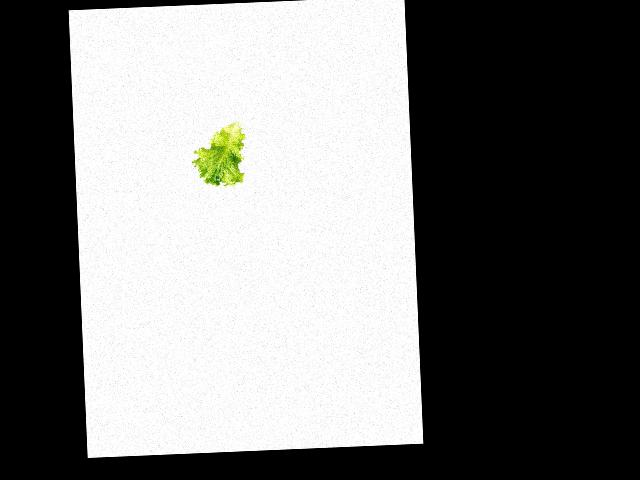lettuce: (191, 120, 245, 188)
